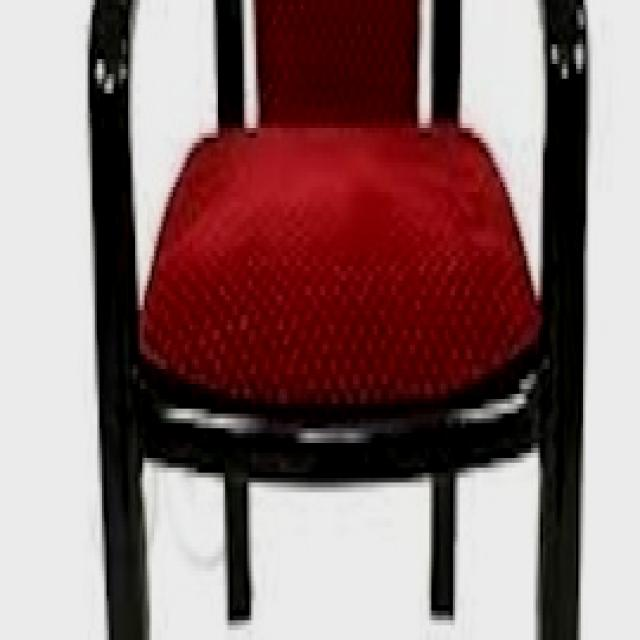Chair: (89, 6, 589, 640)
